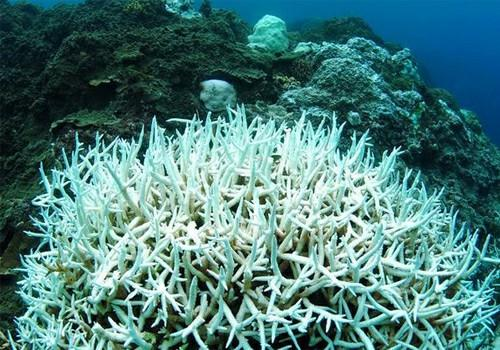bleached_corals: (10, 107, 500, 350)
